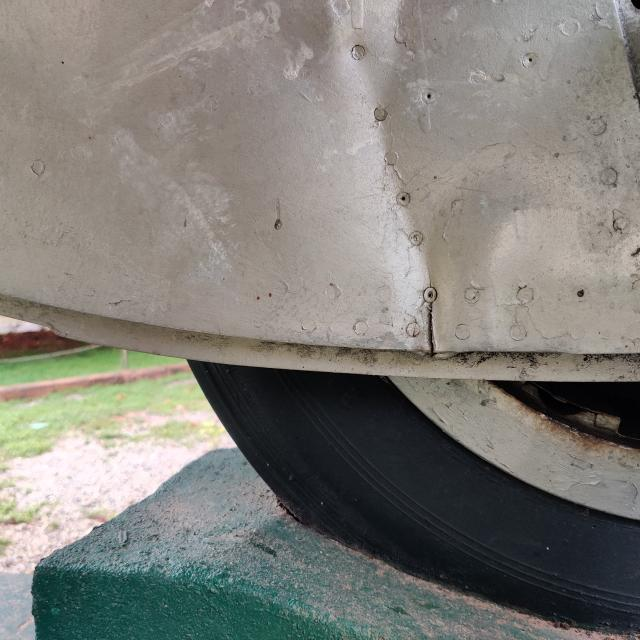crack: (408, 292, 457, 361)
